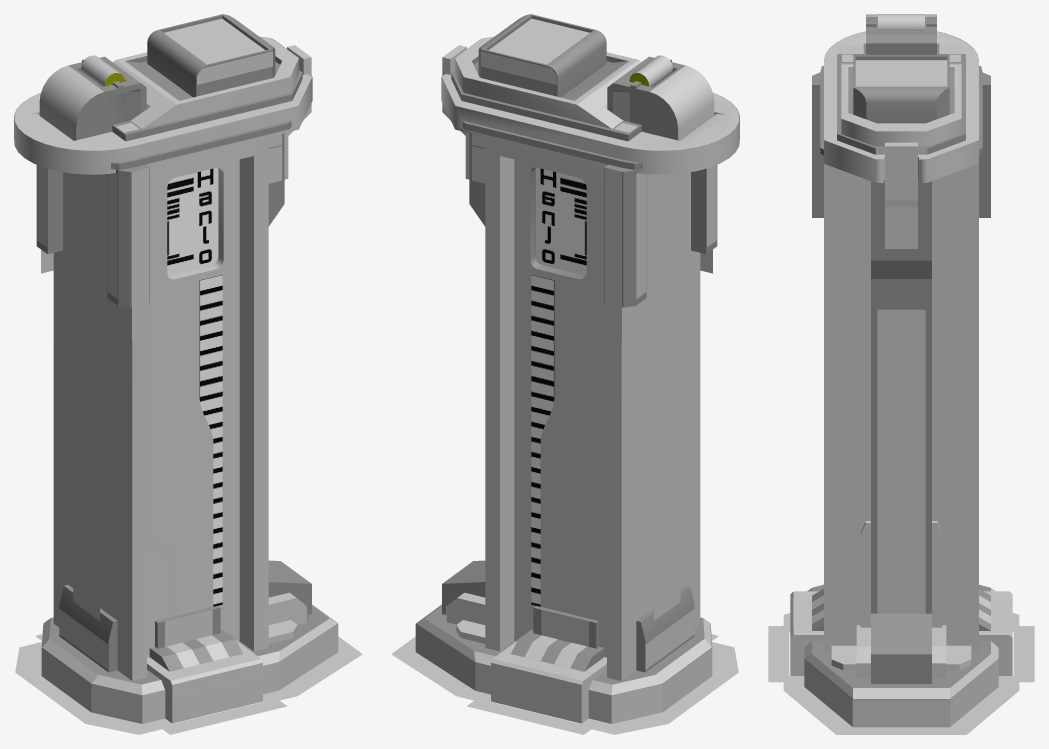
File: Structure_04.fbx
The picture shows the model from 3 angles, left to right: view 1: azimuth 30°, elevation 25°; view 2: azimuth 150°, elevation 25°; view 3: azimuth 270°, elevation 25°; orthographic projection.
Parts seen in each view (by area): view 1: Structure_04, Structure_04_Decal_Normal, Structure_04_Decal_Color, Structure_04_Decal_Text; view 2: Structure_04, Structure_04_Decal_Normal, Structure_04_Decal_Color, Structure_04_Decal_Text; view 3: Structure_04, Structure_04_Decal_Color, Structure_04_Decal_Normal.
Part boxes in pixels (left/top/right/bottom): Structure_04: left=14, top=14, right=337, bottom=723; Structure_04_Decal_Normal: left=14, top=55, right=362, bottom=734; Structure_04_Decal_Color: left=31, top=18, right=298, bottom=690; Structure_04_Decal_Text: left=167, top=167, right=222, bottom=606; Structure_04: left=416, top=14, right=739, bottom=723; Structure_04_Decal_Normal: left=391, top=55, right=739, bottom=734; Structure_04_Decal_Color: left=455, top=18, right=722, bottom=690; Structure_04_Decal_Text: left=531, top=167, right=586, bottom=606; Structure_04: left=790, top=17, right=1012, bottom=699; Structure_04_Decal_Color: left=790, top=14, right=1012, bottom=663; Structure_04_Decal_Normal: left=768, top=14, right=1034, bottom=734.
Size of what is drawn, in the model's own units: 6.72 by 13.07 by 5.16.
